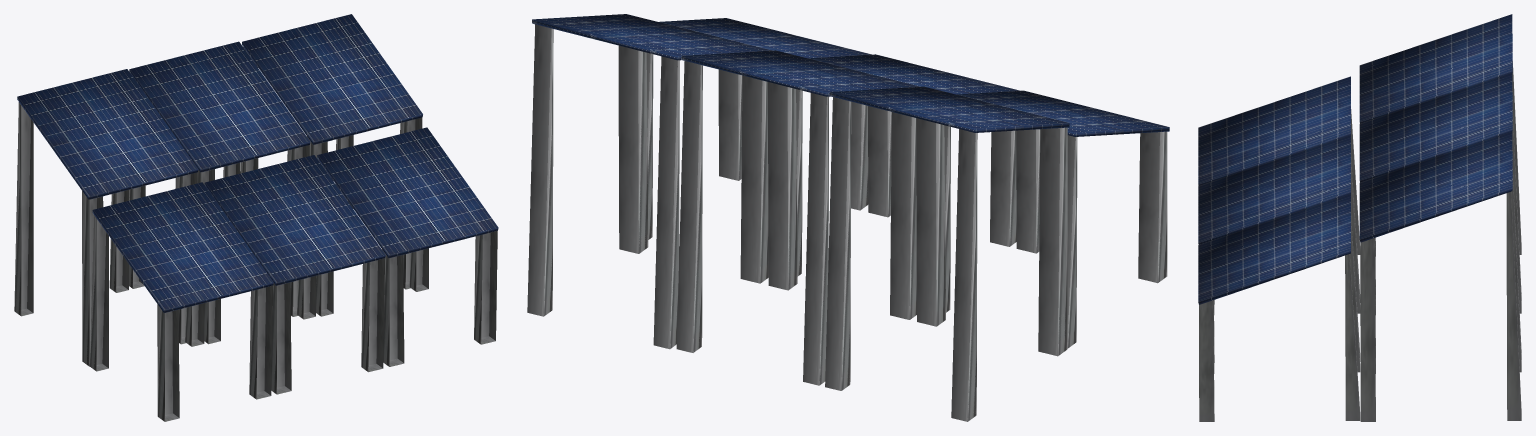
File: six  panel model short legsNS.fbx
3 renders of one model, left to right at view 1: azimuth 30°, elevation 25°; view 2: azimuth 150°, elevation 25°; view 3: azimuth 270°, elevation 25°, orthographic. The views are drawn at different scales.
Visible parts, largest first — view 1: Cube.029, Cube.009, Cube.019, Cube.014, Cube.008, Cube.024, Cube.005, Cube.016, Cube.022, Cube.017, Cube.027, Cube.018 (+12 smaller); view 2: Cube.010, Cube.007, Cube.005, Cube.001, Cube.015, Cube.011, Cube.002, Cube.006, Cube.012, Cube.003, Cube.013, Cube.009 (+16 smaller); view 3: Cube.014, Cube.029, Cube.008, Cube.024, Cube.009, Cube.019, Cube.012, Cube.015, Cube.027, Cube.030, Cube.011, Cube.005 (+4 smaller).
Part boxes in pixels (box(x1,y1,x2,y2)): Cube.029: box(317, 127, 498, 258); Cube.009: box(17, 69, 198, 199); Cube.019: box(92, 182, 273, 313); Cube.014: box(242, 14, 422, 144); Cube.008: box(129, 41, 310, 172); Cube.024: box(204, 155, 385, 285); Cube.005: box(14, 102, 33, 316); Cube.016: box(89, 215, 108, 371); Cube.022: box(361, 258, 384, 372); Cube.017: box(249, 285, 272, 399); Cube.027: box(474, 231, 497, 344); Cube.018: box(157, 304, 179, 421); Cube.010: box(676, 61, 702, 352); Cube.007: box(1038, 127, 1067, 356); Cube.005: box(951, 129, 977, 421); Cube.001: box(825, 97, 851, 390); Cube.015: box(527, 24, 553, 316); Cube.011: box(653, 56, 679, 349); Cube.002: box(803, 93, 828, 385); Cube.006: box(916, 118, 945, 326); Cube.012: box(618, 45, 648, 253); Cube.003: box(768, 82, 797, 290); Cube.013: box(740, 75, 768, 283); Cube.009: box(829, 86, 1069, 132); Cube.014: box(1359, 131, 1512, 242); Cube.029: box(1198, 194, 1350, 304); Cube.008: box(1359, 73, 1512, 182); Cube.024: box(1198, 135, 1350, 244); Cube.009: box(1359, 14, 1512, 123); Cube.019: box(1198, 76, 1350, 185); Cube.012: box(1360, 238, 1375, 421); Cube.015: box(1506, 192, 1521, 420); Cube.027: box(1199, 300, 1214, 421); Cube.030: box(1345, 254, 1360, 420); Cube.011: box(1511, 178, 1521, 372); Cube.005: box(1512, 61, 1521, 254).
Bounding box in the file's own units: 244 × 153 × 191.
